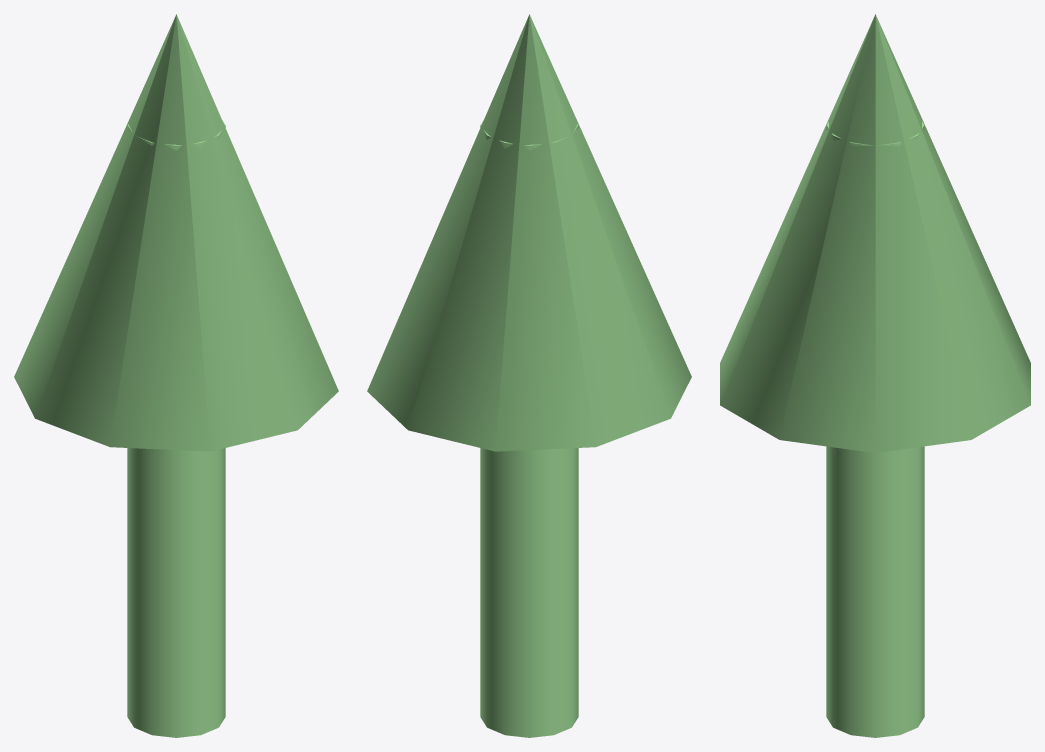
The model's file is crop_carrot_sprout.glb.
The picture shows the model from 3 angles, left to right: view 1: azimuth 30°, elevation 25°; view 2: azimuth 150°, elevation 25°; view 3: azimuth 270°, elevation 25°; orthographic projection.
Parts seen in each view (by area): view 1: Crop_Carrot_Sprout; view 2: Crop_Carrot_Sprout; view 3: Crop_Carrot_Sprout.
Part boxes in pixels (x1=…): Crop_Carrot_Sprout: x1=14, y1=14, x2=338, y2=737; Crop_Carrot_Sprout: x1=367, y1=14, x2=691, y2=737; Crop_Carrot_Sprout: x1=720, y1=14, x2=1030, y2=737.
Bounding box in the file's own units: 0.04 × 0.095 × 0.038.
